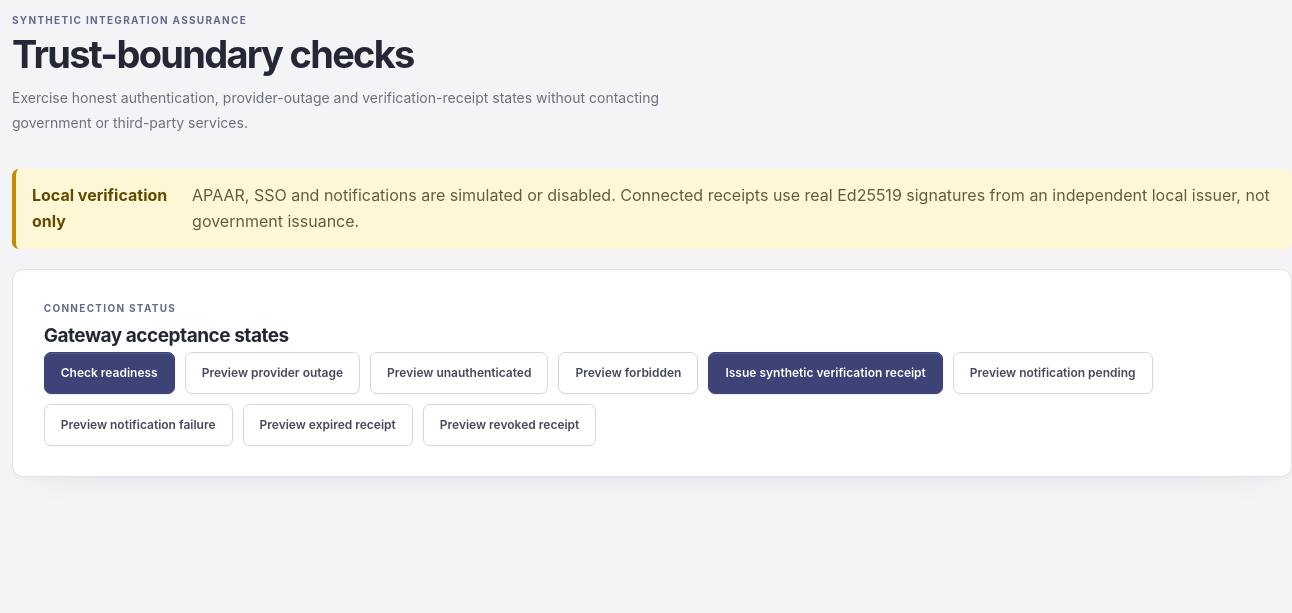
Test: IntegrationWorkspace › shows the Preview notification pending state without changing a decision
This screenshot has width=1292, height=613.
Click the button "Preview notification pending" at (1053, 373), box [953, 352, 1153, 394]
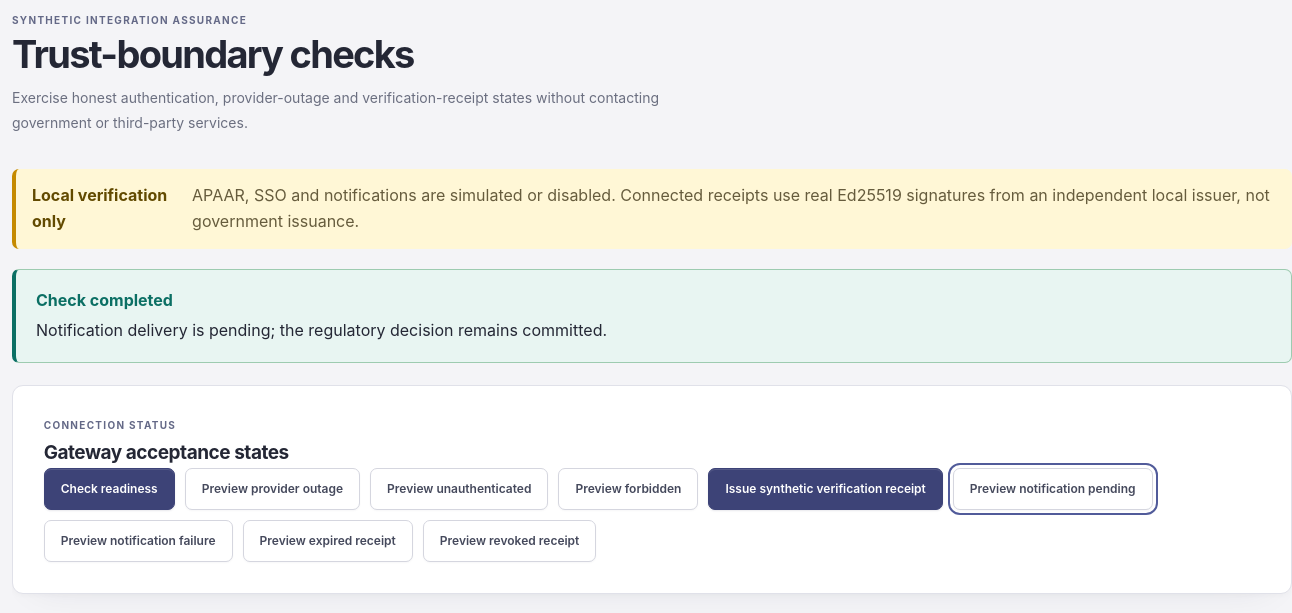
Expected: the message shows "pending", [36, 320, 607, 340]
